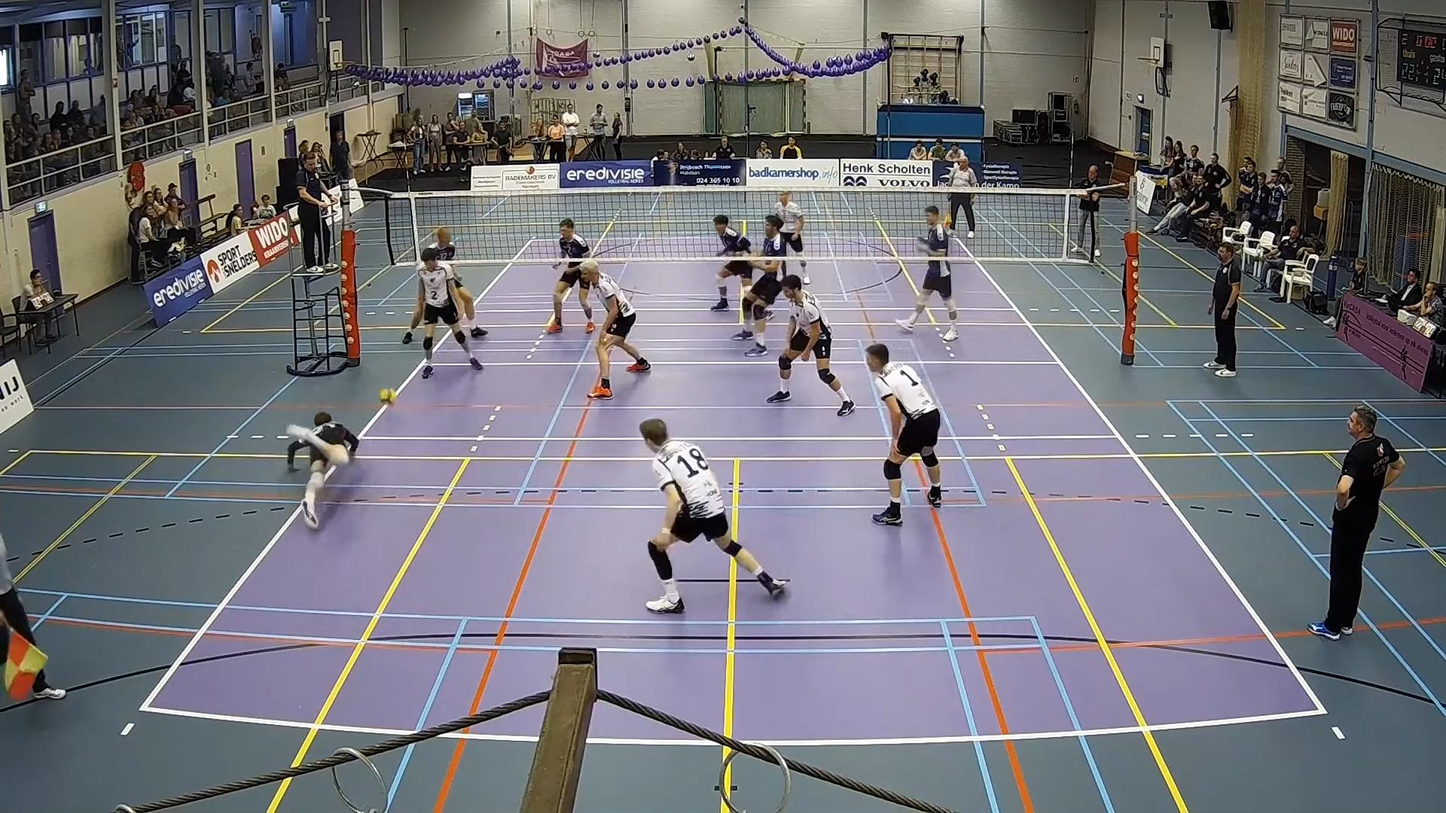Dig: (274, 409, 363, 534)
Player: (639, 419, 787, 613), (866, 343, 941, 525), (767, 275, 855, 416), (581, 258, 650, 399), (417, 248, 482, 378), (897, 207, 957, 340), (732, 215, 786, 356), (546, 218, 595, 333), (711, 214, 752, 311), (451, 266, 487, 337), (773, 191, 804, 254)
ball: (381, 388, 399, 404)
